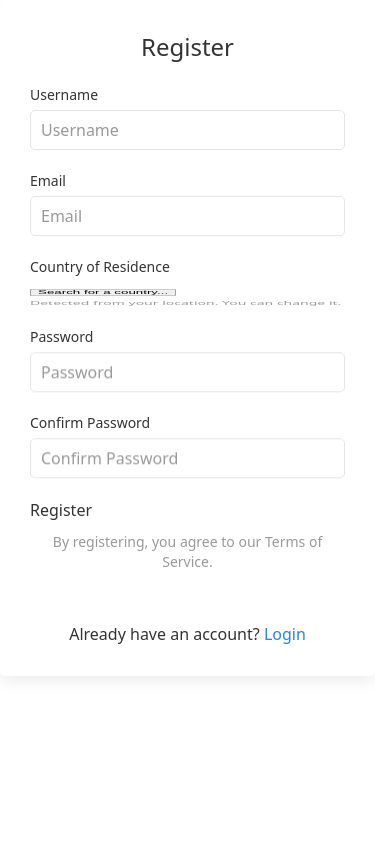
RegisterPage Validation › should not show email invalid error while typing (focused)
Start typing invalid email
Type "invalid-email" into the field with placeholder "Email".
click(188, 216); type("invalid-email")  # box [30,196,345,236]
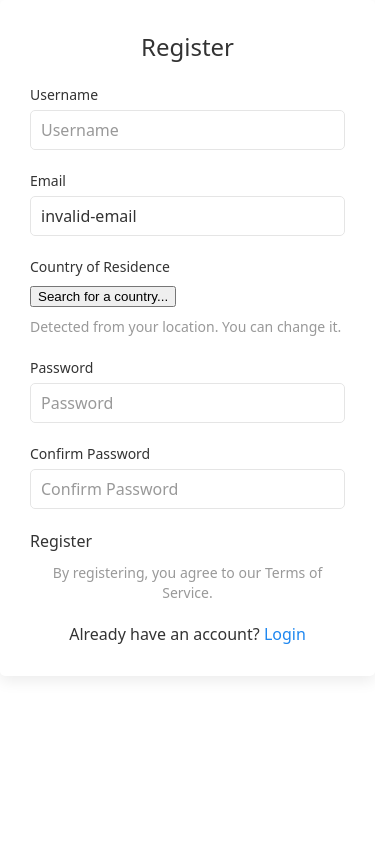
Expected: the text "Please enter a valid email address" is not shown
Blur the input
Leave the field with placeholder "Email", box [30,196,345,236]
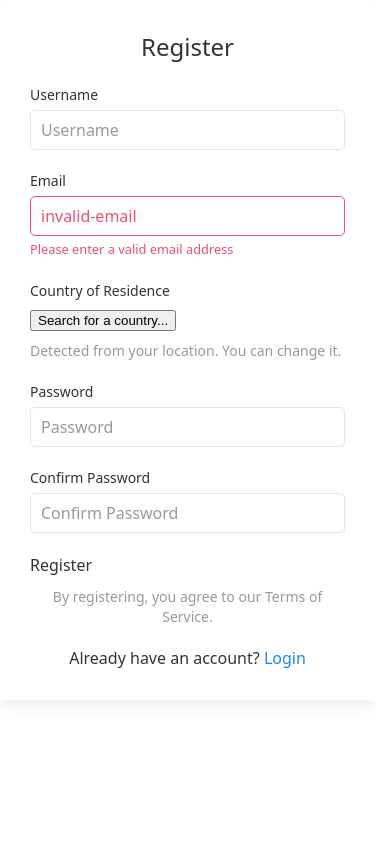
Now the text "Please enter a valid email address" is shown, box [30,240,233,258]
